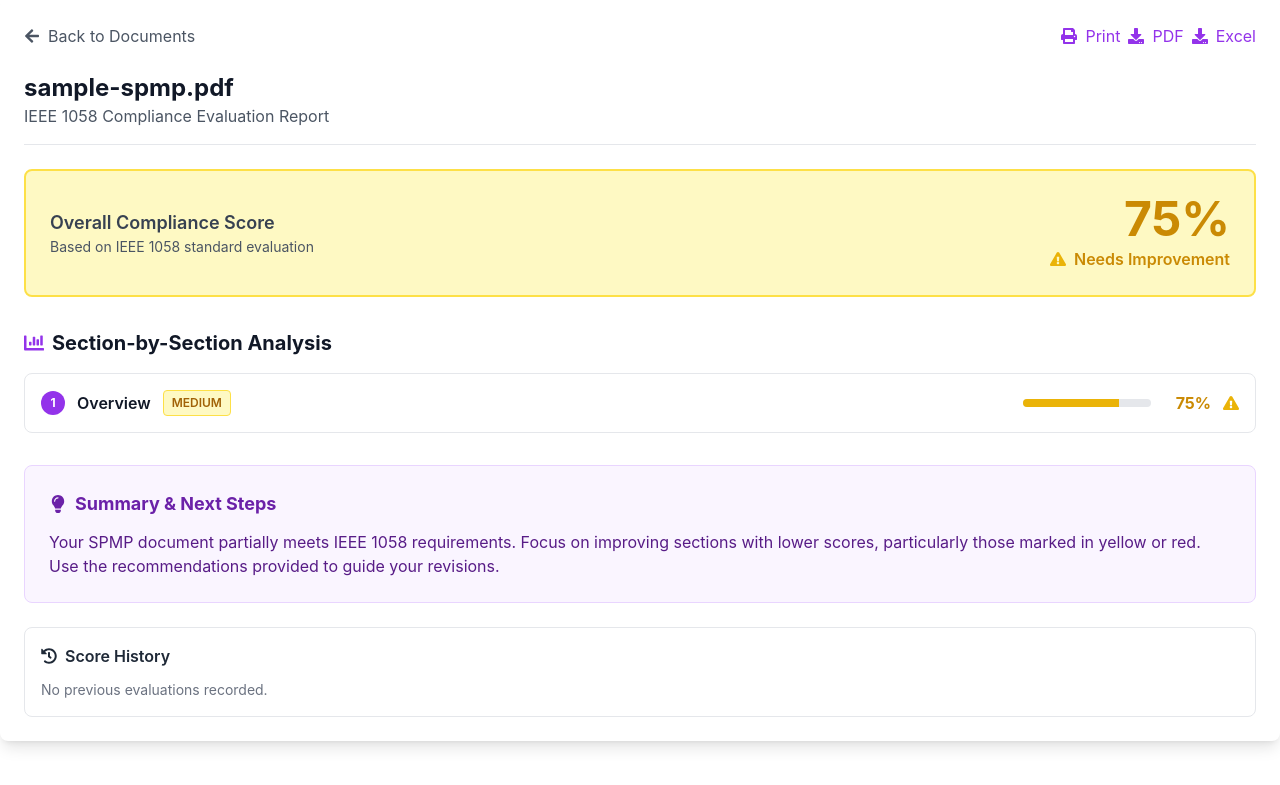
Scenario: renders report and can expand section details
This screenshot has width=1280, height=785.
Expected: the text "75%" in the row of "Based on IEEE 1058 standard evaluation" is shown, [1124, 189, 1230, 248]
// expand the section
Click the text "Overview". click: (114,403)
box: [77, 391, 151, 415]
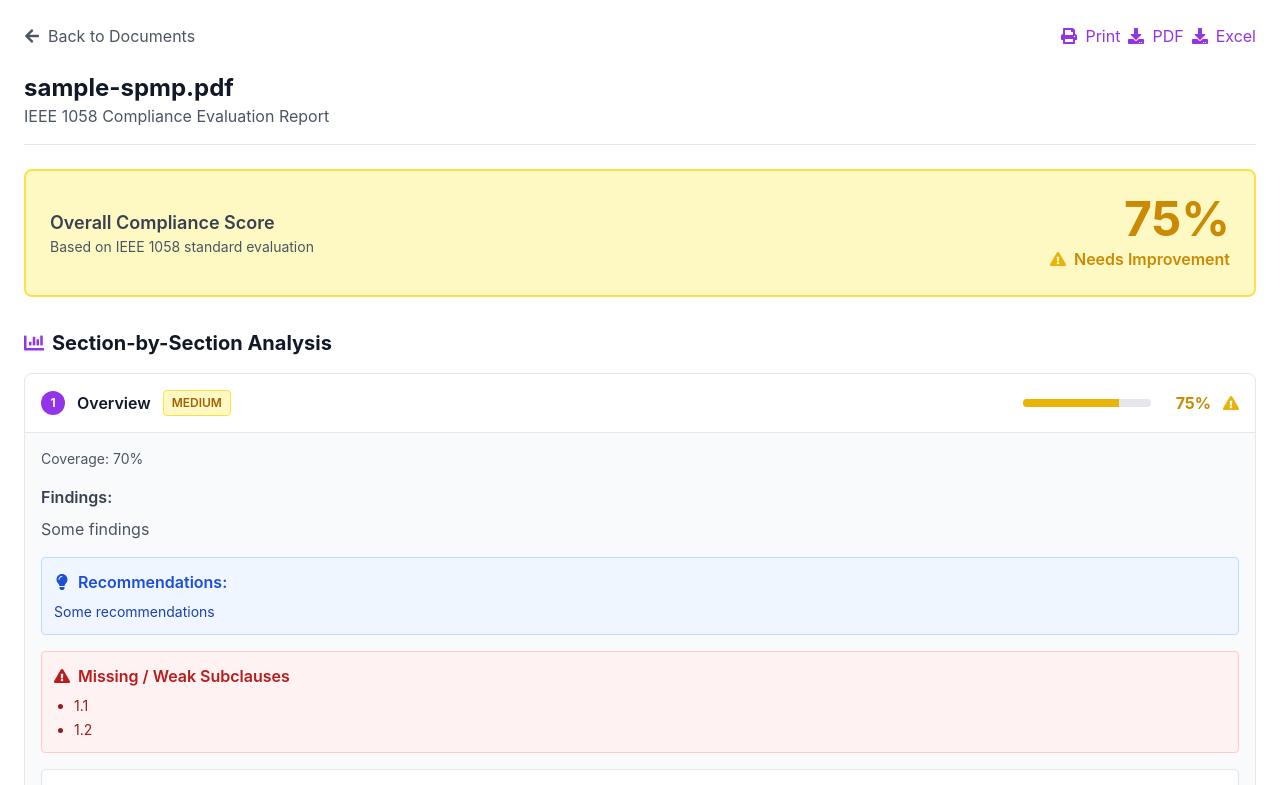
Result: the heading "Findings:" is shown at [41, 487, 112, 507]
Result: the heading "Recommendations:" is shown at [54, 572, 227, 592]
Result: the heading "Missing / Weak Subclauses" is shown at [54, 666, 290, 686]
